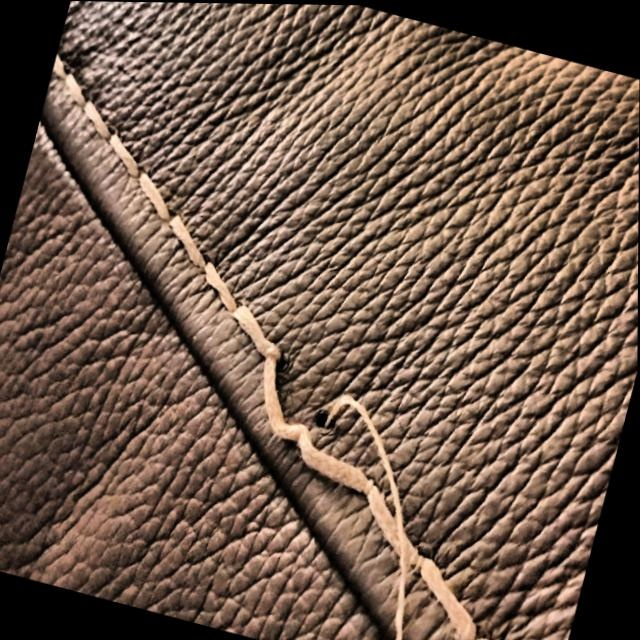Stitch: (128, 252, 526, 639)
